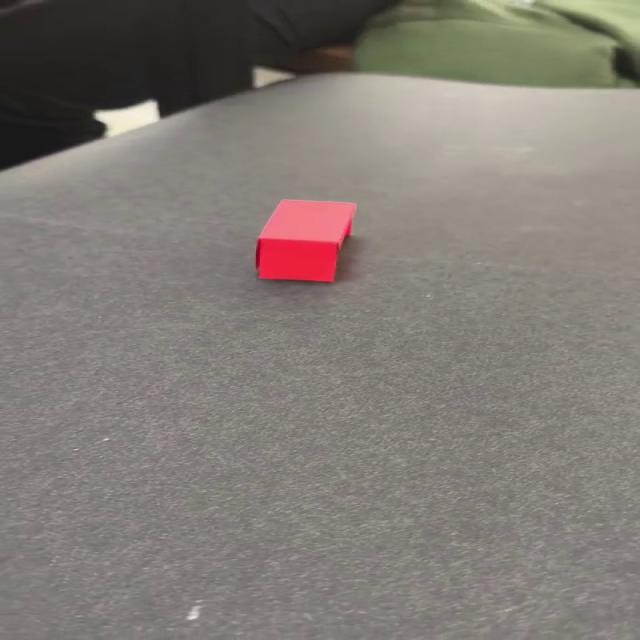red block: (253, 198, 356, 282)
